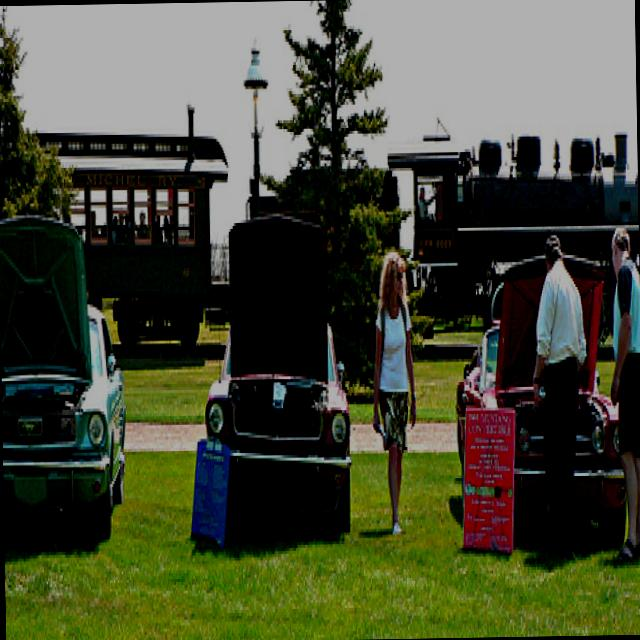Vehicle: (450, 244, 627, 548), (201, 210, 351, 534), (0, 213, 129, 544)
